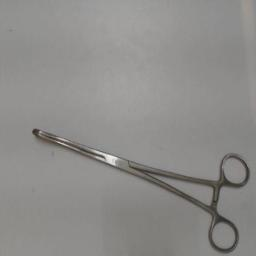Sponge Forceps: (26, 123, 254, 255)
